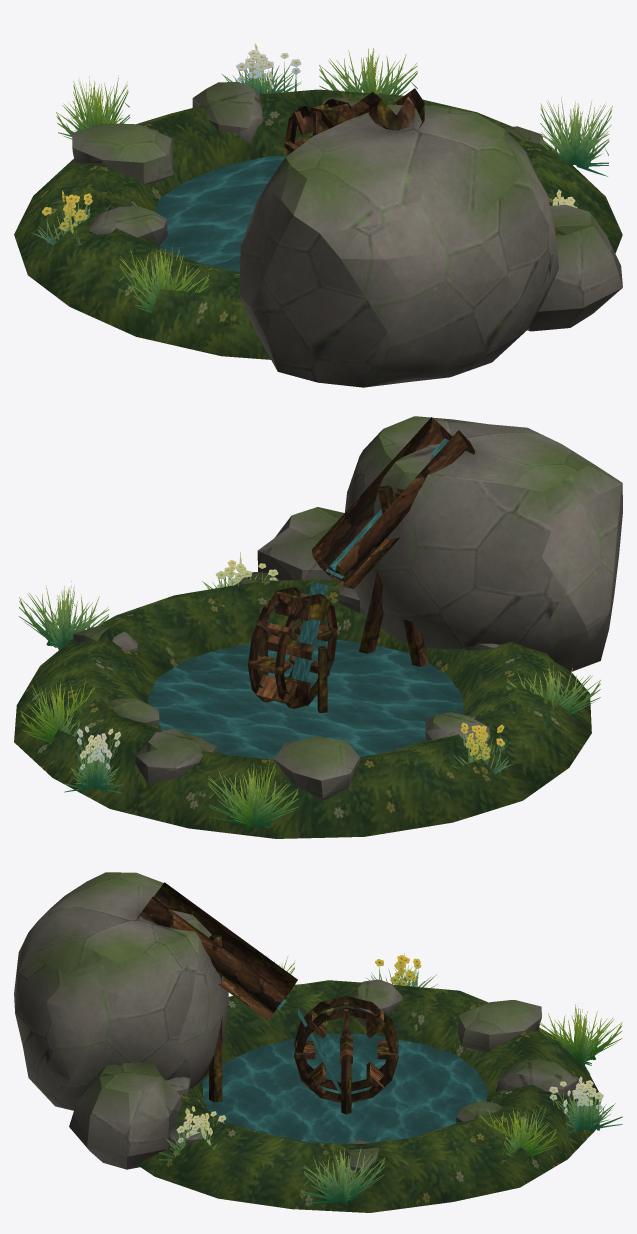
The model's file is neutral_hale_spring.glb.
3 renders of one model, top to bottom at view 1: azimuth 30°, elevation 25°; view 2: azimuth 150°, elevation 25°; view 3: azimuth 270°, elevation 25°, orthographic. The views are drawn at different scales.
Visible parts, largest first — view 1: neutral_hale_spring, waterwheel; view 2: neutral_hale_spring, waterwheel; view 3: neutral_hale_spring, waterwheel.
Boxes of the visible parts, <box> form: neutral_hale_spring: <box>14,43,622,387</box>; waterwheel: <box>284,99,350,156</box>; neutral_hale_spring: <box>14,416,622,838</box>; waterwheel: <box>248,587,337,708</box>; neutral_hale_spring: <box>14,872,622,1212</box>; waterwheel: <box>294,996,398,1102</box>.
Size of the model in its own units: 3.61 by 1.5 by 4.01.
Materials: 5 (5 with a texture image).
